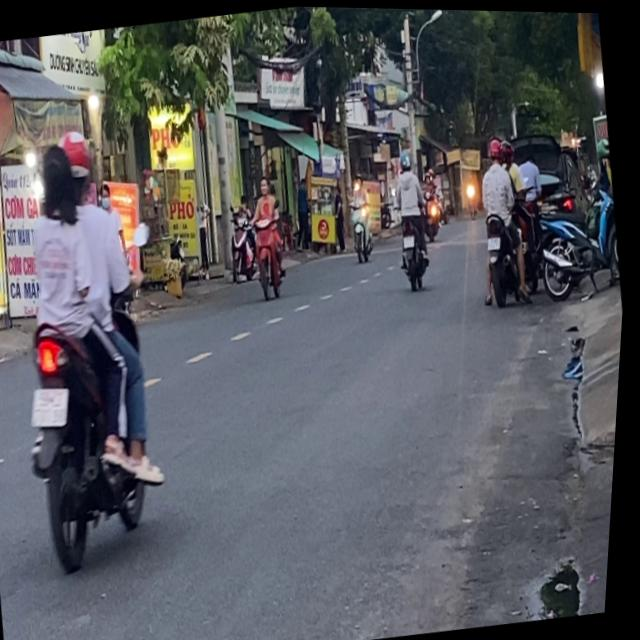helmet: (56, 127, 104, 205), (487, 134, 505, 162)
licenseplate: (0, 118, 196, 581), (465, 130, 541, 308)
motorcyclist: (34, 139, 86, 223)
nohelmet: (32, 384, 77, 429), (489, 233, 504, 249)
